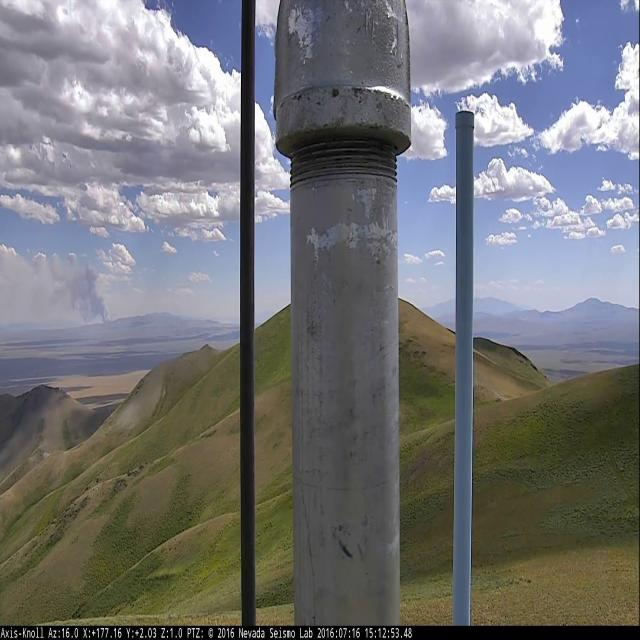smoke: (48, 257, 111, 323)
